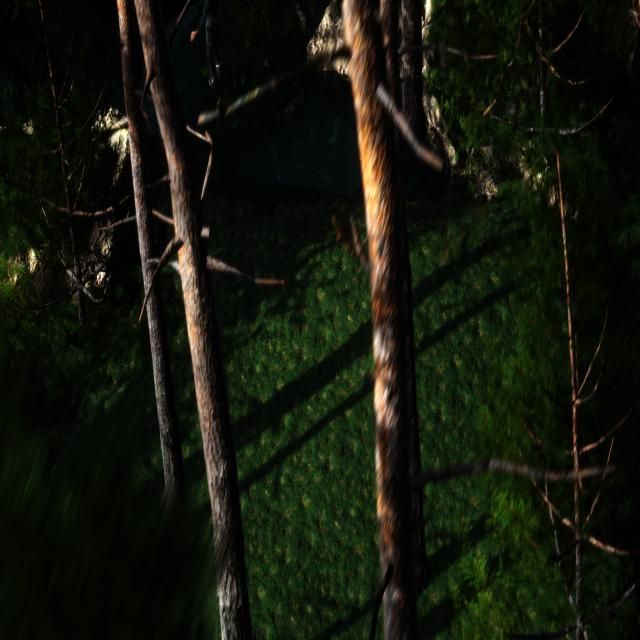Human: (188, 0, 222, 99)
